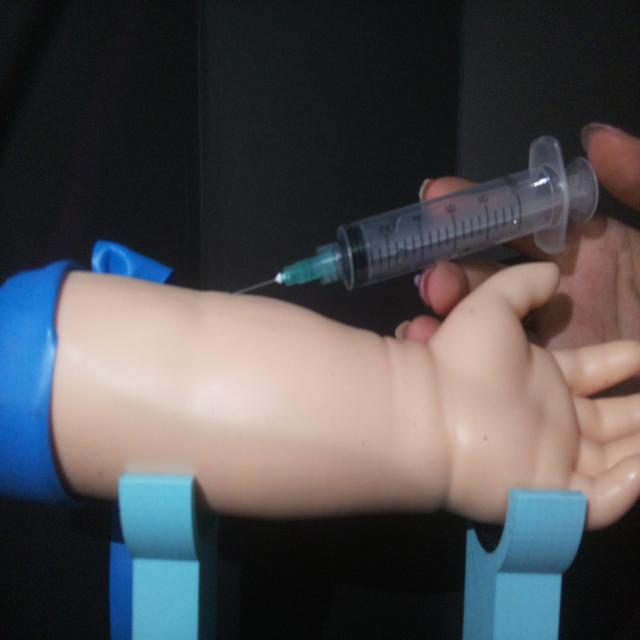23deg: (228, 130, 602, 301)
